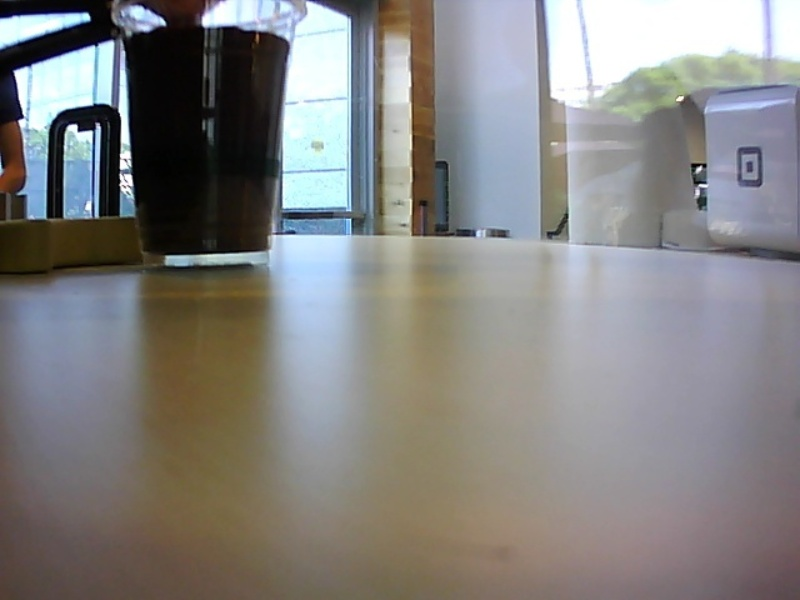cup: (104, 1, 309, 270)
limit: (118, 17, 293, 50)
